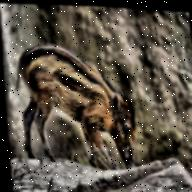boar: (9, 32, 154, 183)
